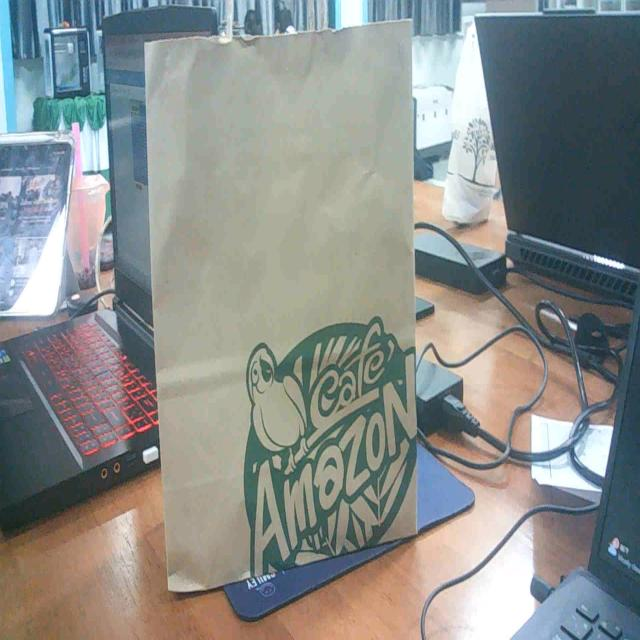bag: (138, 11, 435, 576)
